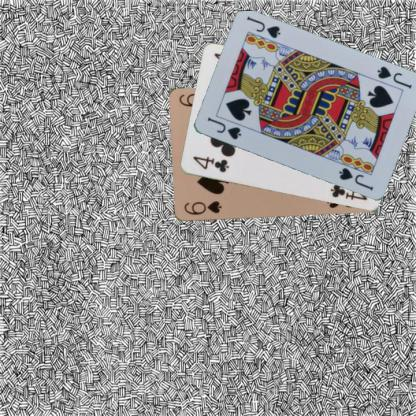4c: (189, 154, 230, 174)
6s: (181, 198, 223, 216)
Js: (204, 114, 242, 141), (374, 64, 412, 90)
